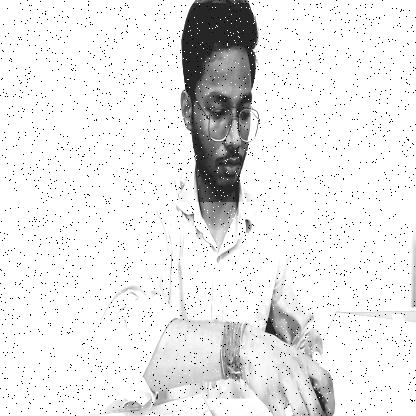Distracted: (178, 3, 260, 202)
